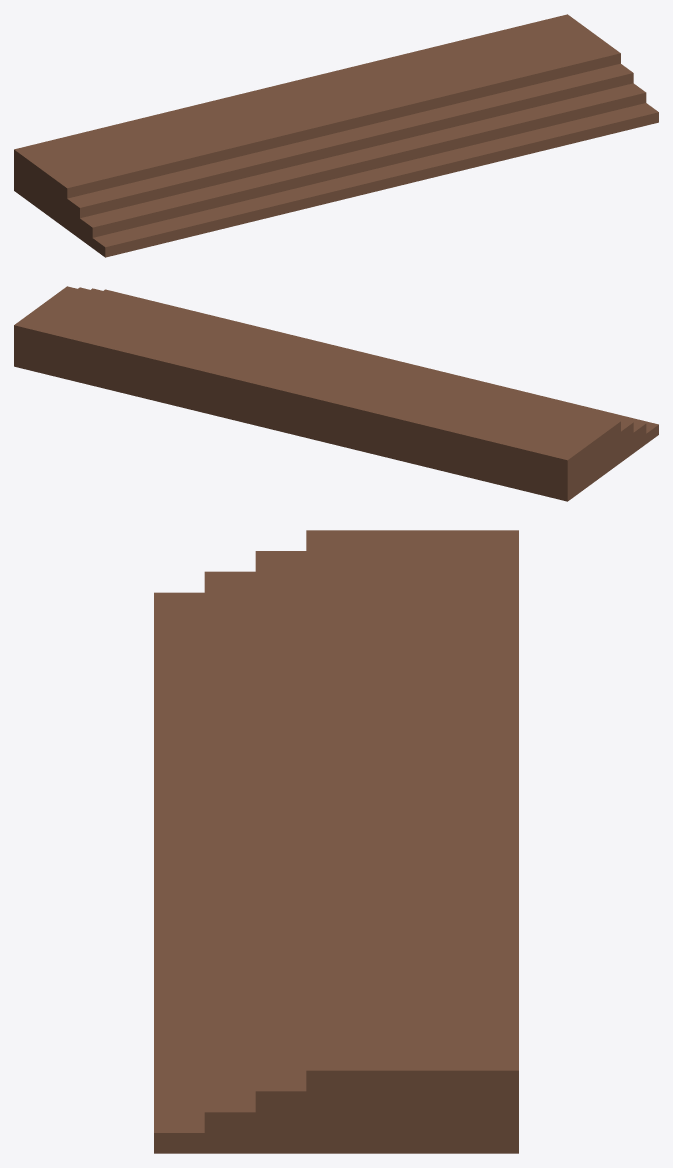
Rendered from Stairs.fbx.
The picture shows the model from 3 angles, top to bottom: view 1: azimuth 30°, elevation 25°; view 2: azimuth 150°, elevation 25°; view 3: azimuth 270°, elevation 25°; orthographic projection. The views are drawn at different scales.
Parts seen in each view (by area): view 1: stairs; view 2: stairs; view 3: stairs.
Boxes of the visible parts, x1,y1,x2,y2 form: stairs: (14, 14, 658, 257); stairs: (14, 286, 658, 501); stairs: (154, 530, 518, 1153).
Size of the model in its own units: 14 by 1 by 4.
